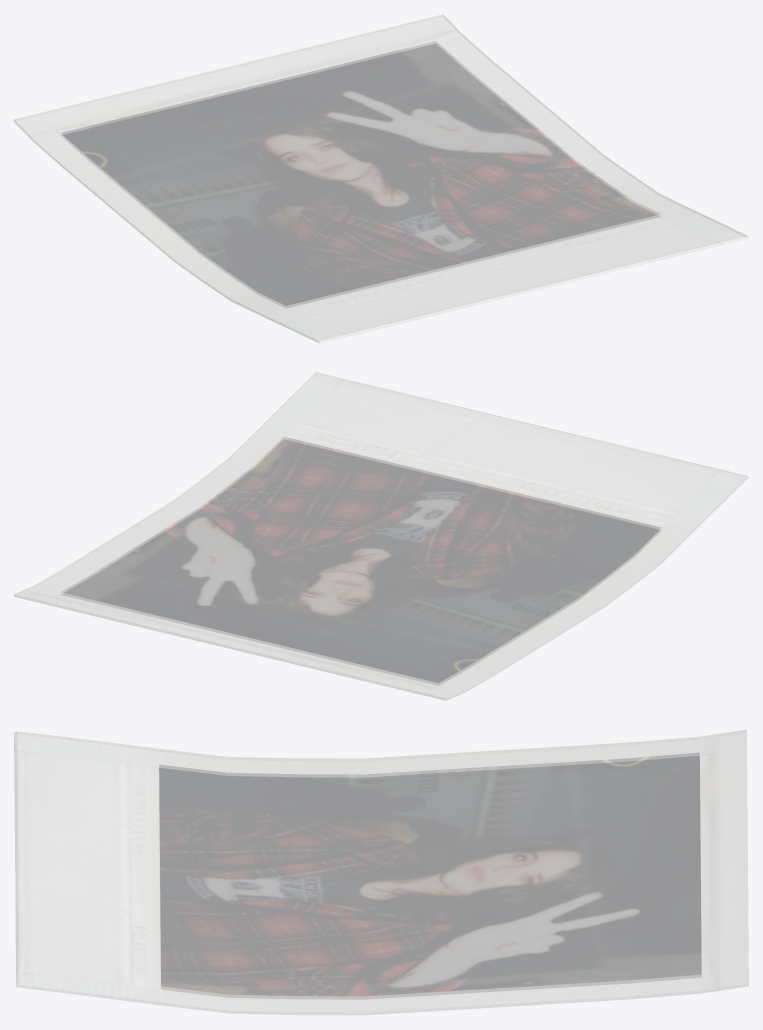
Rendered from project_card_wayalink.glb.
3 views of the same model, one above another, from view 1: azimuth 30°, elevation 25°; view 2: azimuth 150°, elevation 25°; view 3: azimuth 270°, elevation 25° (orthographic). The views are drawn at different scales.
Parts seen in each view (by area): view 1: photo; view 2: photo; view 3: photo.
Part boxes in pixels (x1=…): photo: x1=14, y1=14, x2=748, y2=343; photo: x1=14, y1=372, x2=748, y2=700; photo: x1=14, y1=730, x2=748, y2=1014.
Bounding box in the file's own units: 20.74 × 1.23 × 25.35.
3 materials, 3 textured.
